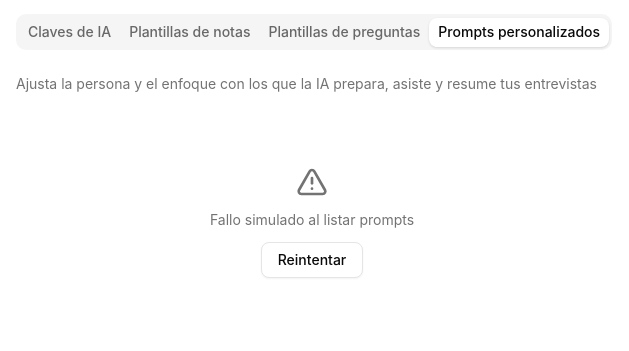
Test: CustomPromptsTab › listing the catalog › shows the error state with the message and a "Reintentar" button that reloads the catalog
The width and height of the screenshot is (629, 351).
Expected: the text "Fallo simulado al listar prompts" is shown, [210, 210, 414, 230]
Click the button "Reintentar".
click(312, 260)  # box [261, 242, 363, 278]
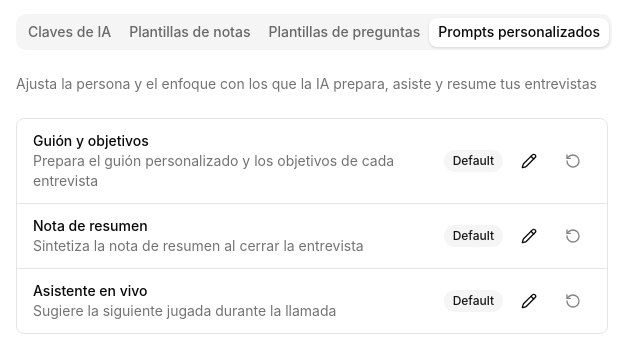
Expected: the list with test id "custom-prompts-list" is shown, [16, 118, 608, 334]
